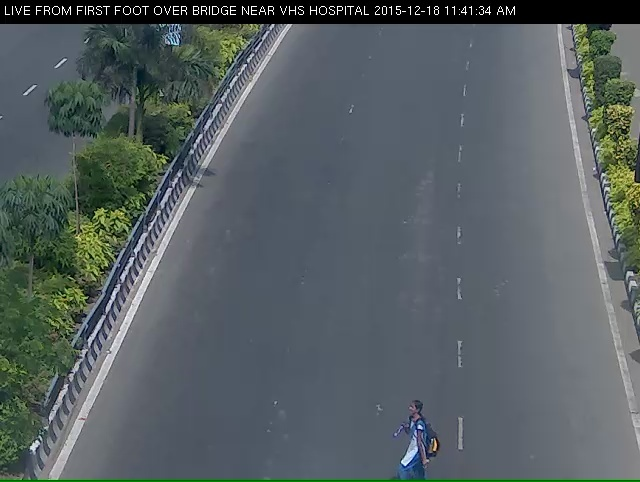Person: (375, 403, 425, 476)
